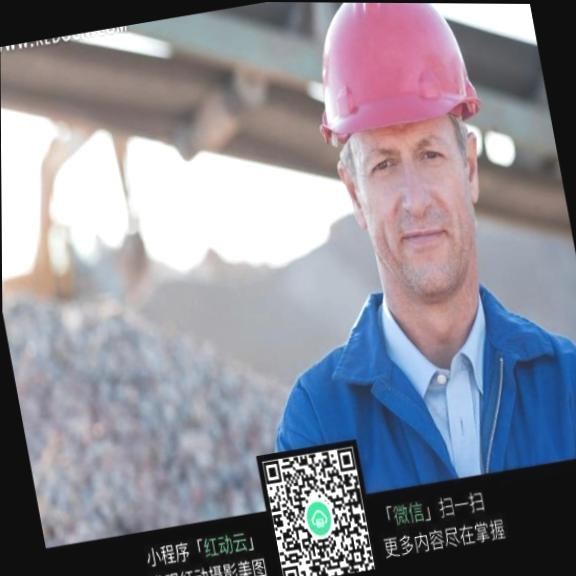no_safety_vest: (281, 303, 576, 502)
